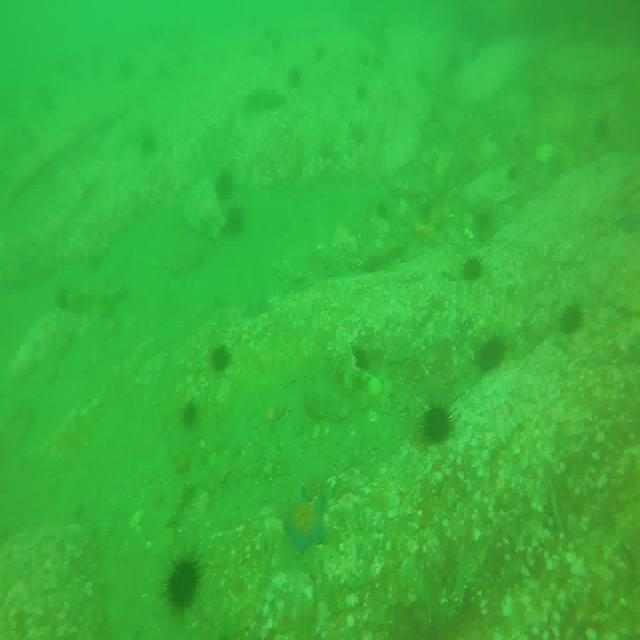echinus: (168, 550, 200, 611), (421, 402, 454, 444), (478, 337, 508, 374), (560, 298, 583, 338), (462, 251, 484, 286), (225, 202, 247, 234), (214, 344, 233, 374), (215, 169, 233, 200), (181, 400, 201, 426), (290, 59, 304, 91), (356, 80, 372, 105), (375, 50, 387, 73), (314, 41, 327, 60)
starfish: (284, 482, 327, 554), (243, 292, 271, 321)
